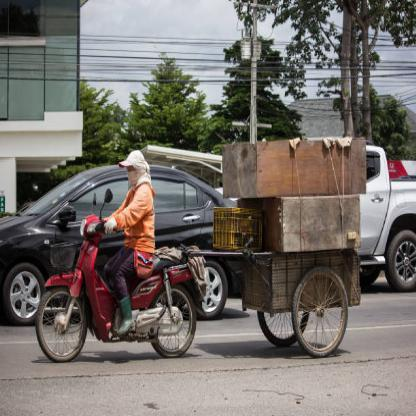Motorcycle: (33, 211, 203, 369)
